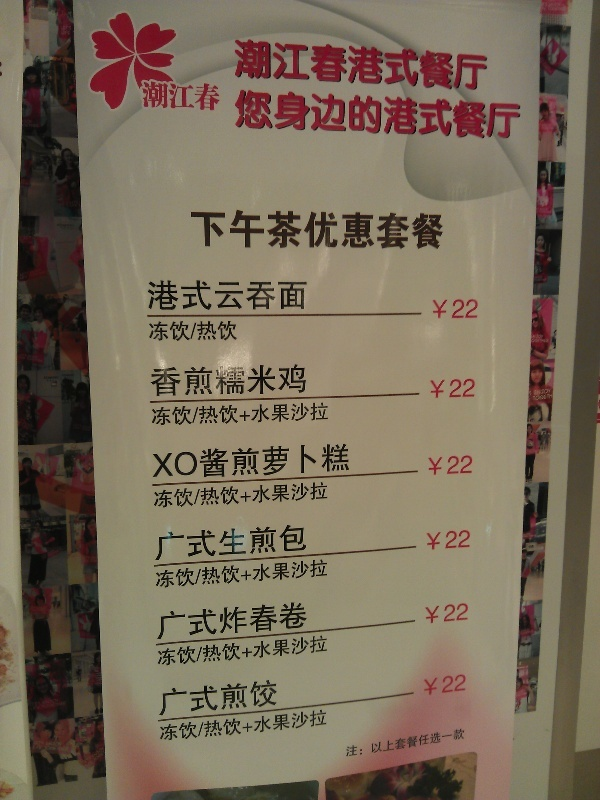text: (241, 39, 256, 93), (257, 39, 272, 93), (273, 39, 288, 93), (289, 39, 304, 93), (305, 39, 320, 93), (321, 39, 336, 93), (337, 39, 352, 93), (353, 39, 368, 93), (369, 39, 384, 93), (385, 39, 400, 93), (401, 39, 416, 93), (417, 39, 432, 93), (433, 39, 448, 93), (449, 39, 464, 93), (465, 39, 480, 93), (241, 88, 256, 141), (257, 88, 272, 141), (273, 88, 288, 141), (289, 88, 304, 141), (305, 88, 320, 141), (321, 88, 336, 141), (337, 88, 352, 141), (353, 88, 368, 141), (369, 88, 384, 141), (385, 88, 400, 141), (401, 88, 416, 141), (417, 88, 432, 141), (433, 88, 448, 141), (449, 88, 464, 141), (465, 88, 480, 141), (481, 88, 496, 141), (497, 88, 512, 141), (193, 208, 208, 252), (209, 208, 224, 252), (225, 208, 240, 252), (241, 208, 256, 252), (257, 208, 272, 252), (273, 208, 288, 252), (289, 208, 304, 252), (305, 208, 320, 252), (321, 208, 336, 252), (337, 208, 352, 252), (353, 208, 368, 252), (369, 208, 384, 252), (385, 208, 400, 252), (401, 208, 416, 252), (417, 208, 432, 252), (161, 600, 176, 641), (177, 600, 192, 641), (193, 600, 208, 641), (209, 600, 224, 641), (225, 600, 240, 641), (241, 600, 256, 641), (257, 600, 272, 641), (273, 600, 288, 641), (289, 600, 304, 641), (161, 678, 176, 717), (177, 678, 192, 717), (193, 678, 208, 717), (209, 678, 224, 717), (225, 678, 240, 717), (241, 678, 256, 717), (257, 678, 272, 717), (161, 523, 176, 561), (177, 523, 192, 561), (193, 523, 208, 561), (209, 523, 224, 561), (225, 523, 240, 561), (241, 523, 256, 561), (257, 523, 272, 561), (273, 523, 288, 561), (289, 523, 304, 561), (161, 443, 176, 480), (177, 443, 192, 480), (193, 443, 208, 480), (209, 443, 224, 480), (225, 443, 240, 480), (241, 443, 256, 480), (257, 443, 272, 480), (273, 443, 288, 480), (289, 443, 304, 480), (305, 443, 320, 480), (321, 443, 336, 480), (145, 78, 160, 113), (161, 78, 176, 113), (177, 78, 192, 113), (193, 78, 208, 113), (161, 708, 176, 742), (177, 708, 192, 742), (193, 708, 208, 742), (209, 708, 224, 742), (225, 708, 240, 742), (241, 708, 256, 742), (257, 708, 272, 742), (273, 708, 288, 742), (289, 708, 304, 742), (305, 708, 320, 742), (161, 364, 176, 397), (177, 364, 192, 397), (193, 364, 208, 397), (209, 364, 224, 397), (225, 364, 240, 397), (241, 364, 256, 397), (257, 364, 272, 397), (273, 364, 288, 397), (289, 364, 304, 397), (433, 208, 444, 252), (337, 443, 350, 480), (161, 635, 176, 667), (177, 635, 192, 667), (193, 635, 208, 667), (209, 635, 224, 667), (225, 635, 240, 667), (241, 635, 256, 667), (257, 635, 272, 667), (273, 635, 288, 667), (289, 635, 304, 667), (305, 635, 320, 667), (161, 280, 176, 311), (177, 280, 192, 311), (193, 280, 208, 311), (209, 280, 224, 311), (225, 280, 240, 311), (241, 280, 256, 311), (257, 280, 272, 311), (273, 280, 288, 311), (289, 280, 304, 311), (353, 728, 368, 759), (369, 728, 384, 759), (385, 728, 400, 759), (401, 728, 416, 759), (417, 728, 432, 759), (433, 728, 448, 759), (449, 728, 464, 759), (209, 78, 222, 113), (161, 559, 176, 589), (177, 559, 192, 589), (193, 559, 208, 589), (209, 559, 224, 589), (225, 559, 240, 589), (241, 559, 256, 589), (257, 559, 272, 589), (273, 559, 288, 589), (289, 559, 304, 589), (305, 559, 320, 589), (513, 88, 521, 141), (161, 481, 176, 509), (177, 481, 192, 509), (193, 481, 208, 509), (209, 481, 224, 509), (225, 481, 240, 509), (241, 481, 256, 509), (257, 481, 272, 509), (273, 481, 288, 509), (289, 481, 304, 509), (305, 481, 320, 509), (433, 672, 448, 697), (449, 672, 464, 697), (148, 280, 160, 311), (161, 403, 176, 427), (177, 403, 192, 427), (193, 403, 208, 427), (209, 403, 224, 427), (225, 403, 240, 427), (241, 403, 256, 427), (257, 403, 272, 427), (273, 403, 288, 427), (289, 403, 304, 427), (305, 403, 320, 427), (433, 602, 448, 626), (449, 602, 464, 626), (433, 528, 448, 551), (449, 528, 464, 551), (481, 39, 487, 93), (433, 299, 448, 319), (449, 299, 464, 319), (433, 379, 448, 399), (449, 379, 464, 399), (433, 456, 448, 476), (449, 456, 464, 476), (151, 364, 160, 397), (321, 635, 330, 667), (161, 322, 176, 341), (177, 322, 192, 341), (193, 322, 208, 341), (209, 322, 224, 341), (273, 678, 280, 717), (321, 708, 329, 742), (235, 39, 240, 93), (225, 322, 239, 341), (235, 88, 240, 141), (465, 299, 478, 319), (153, 443, 160, 480), (422, 672, 432, 697), (321, 559, 329, 589), (154, 523, 160, 561), (321, 481, 329, 509), (465, 379, 476, 399), (149, 322, 160, 341), (152, 403, 160, 427), (321, 403, 329, 427), (424, 602, 432, 626), (346, 728, 352, 759), (465, 456, 474, 476), (154, 481, 160, 509), (156, 600, 160, 641), (465, 528, 472, 551), (155, 559, 160, 589), (426, 528, 432, 551), (465, 602, 470, 626), (529, 388, 544, 396), (529, 394, 544, 402), (427, 456, 432, 476), (465, 672, 469, 697), (157, 635, 160, 667), (305, 600, 307, 641), (158, 678, 160, 717), (305, 523, 307, 561), (305, 364, 307, 397), (545, 394, 553, 402), (305, 280, 307, 311), (429, 379, 432, 399), (532, 338, 544, 343), (545, 388, 551, 396), (532, 335, 544, 338), (143, 78, 144, 113), (159, 708, 160, 742), (465, 728, 466, 759), (545, 338, 549, 343)
